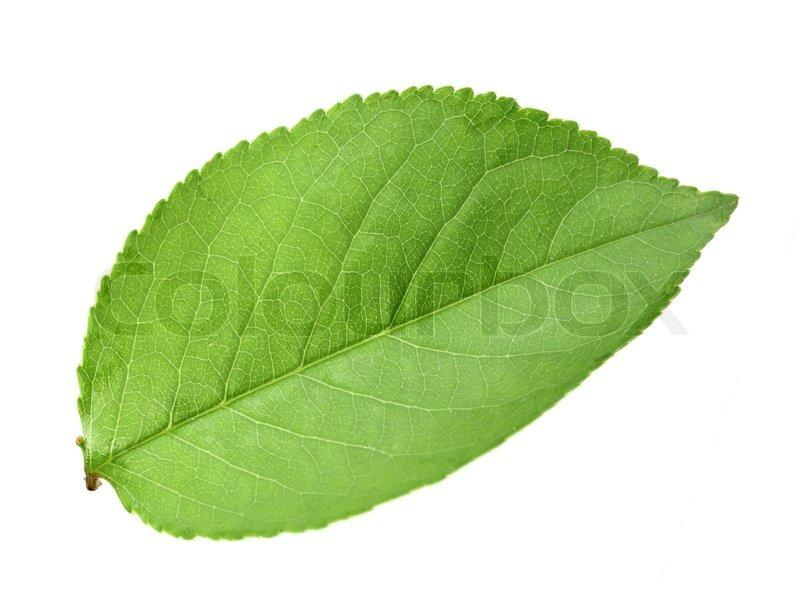Apple leaf: (75, 82, 751, 551)
